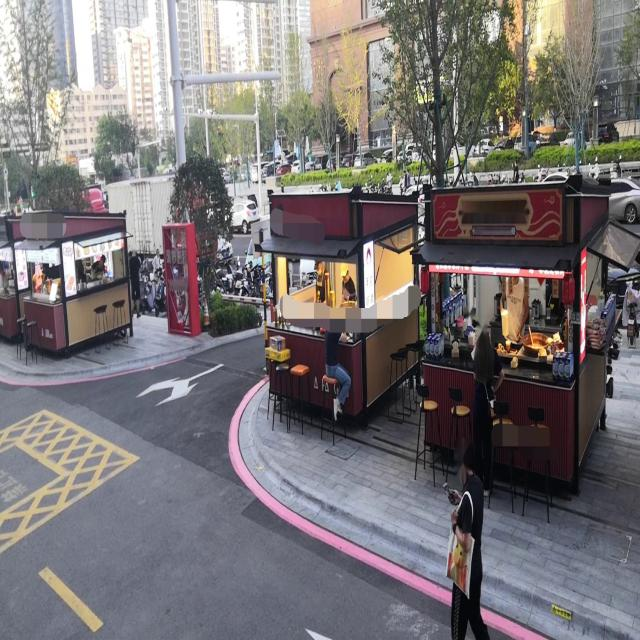fixed_stall: (407, 185, 575, 391), (264, 190, 361, 344), (63, 230, 127, 296), (22, 211, 63, 306), (585, 289, 623, 352), (1, 265, 15, 301)
